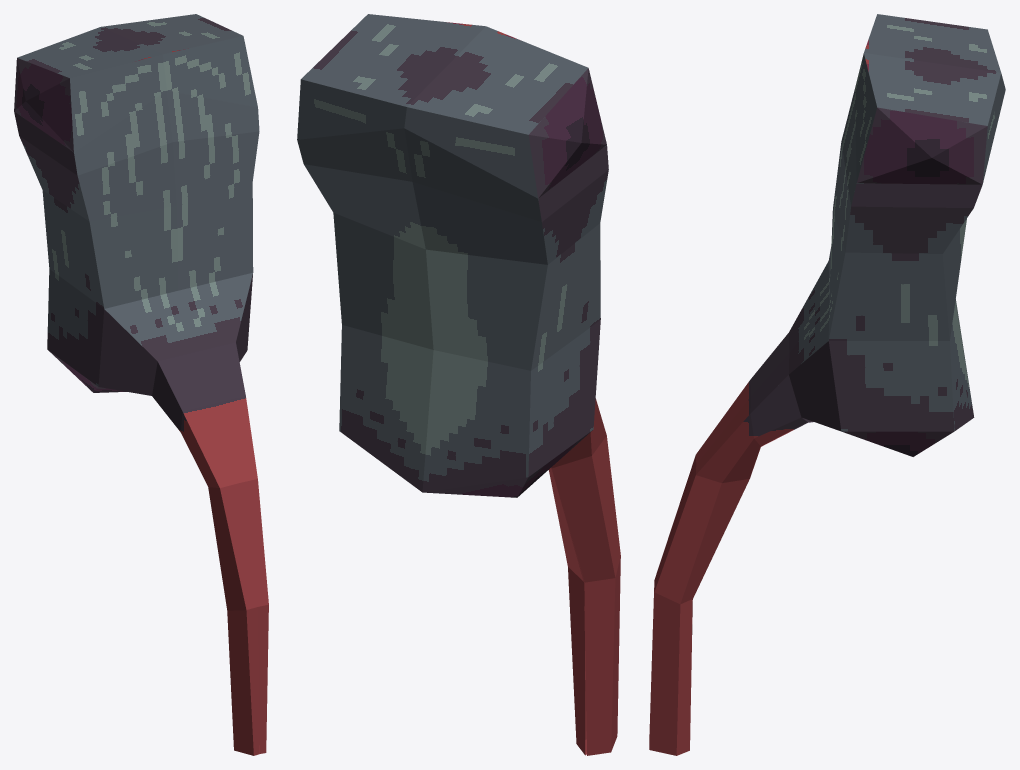
File: rat_body.glb
3 views of the same model, side by side, from view 1: azimuth 30°, elevation 25°; view 2: azimuth 150°, elevation 25°; view 3: azimuth 270°, elevation 25° (orthographic). The views are drawn at different scales.
Visible parts, largest first — view 1: Cube.138; view 2: Cube.138; view 3: Cube.138.
Boxes of the visible parts, <box> form: Cube.138: <box>14,14,268,755</box>; Cube.138: <box>297,14,620,755</box>; Cube.138: <box>649,14,1005,755</box>.
Size of the model in its own units: 2.7 by 7.69 by 3.56.
1 material, 1 textured.
